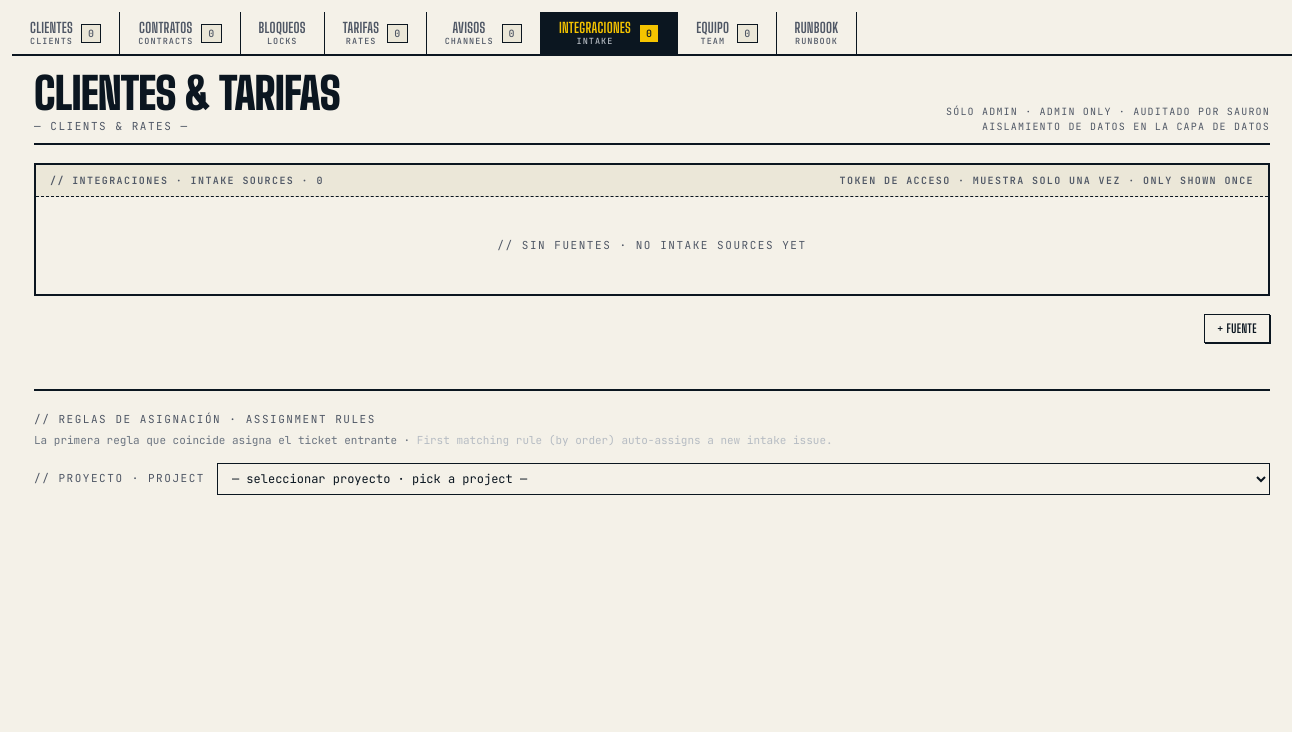
Scenario: SettingsPage › loads assignment rules for the selected project and shows the empty state
Expected: the text "// REGLAS DE ASIGNACIÓN · ASSIGNMENT RULES" is shown, [34,412,376,426]
Select "GIRA · Gira" in the dropdown named "— seleccionar proyecto · pick a project —" at (744, 479), box [217,463,1270,495]
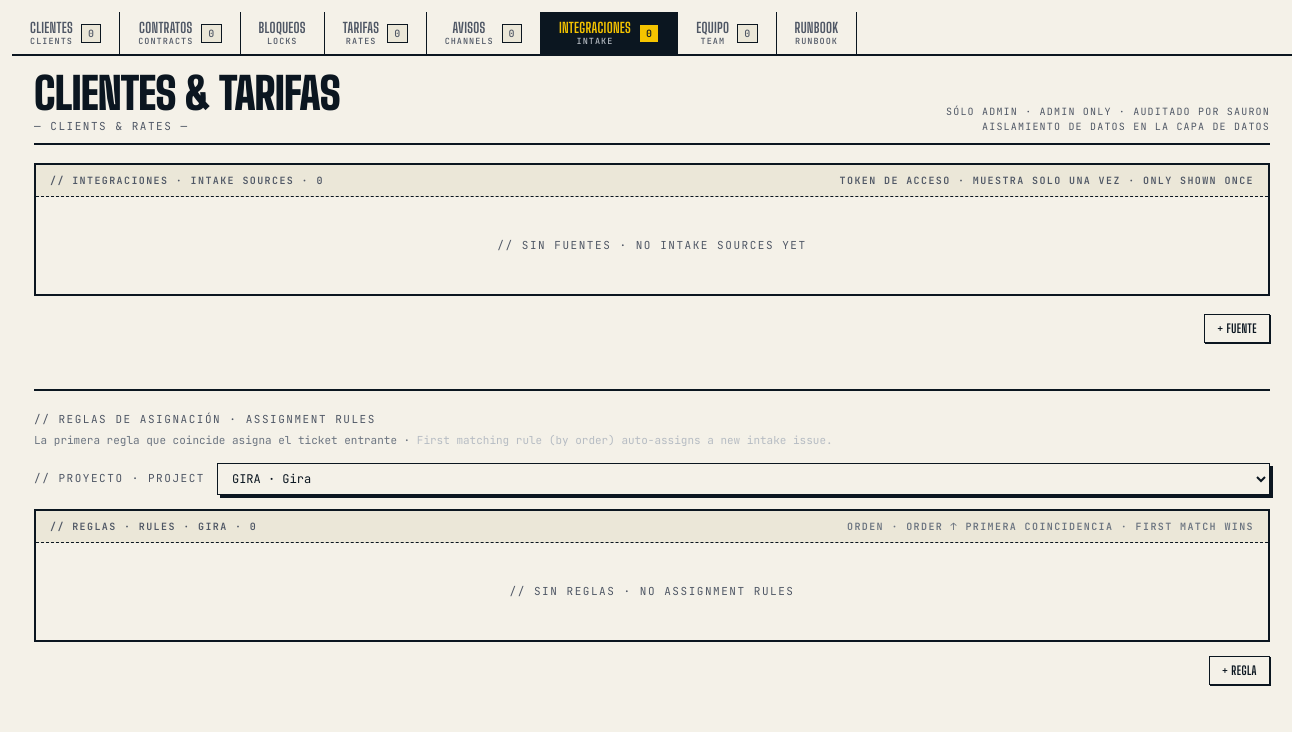
Now the text "// sin reglas · no assignment rules" is shown, box [510,583,794,600]
